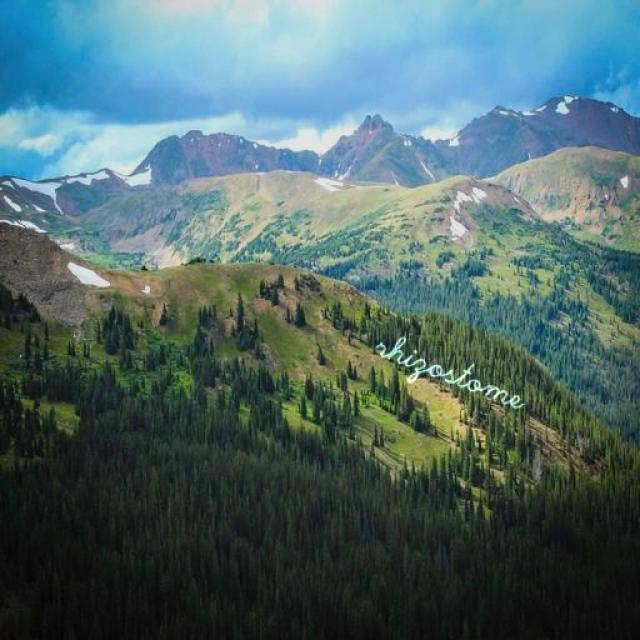watermark: (365, 325, 547, 416)
